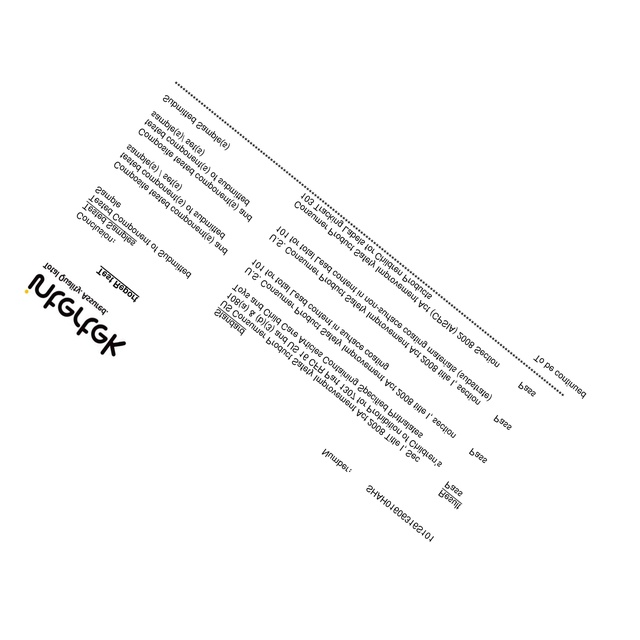intertek: (22, 267, 129, 357)
